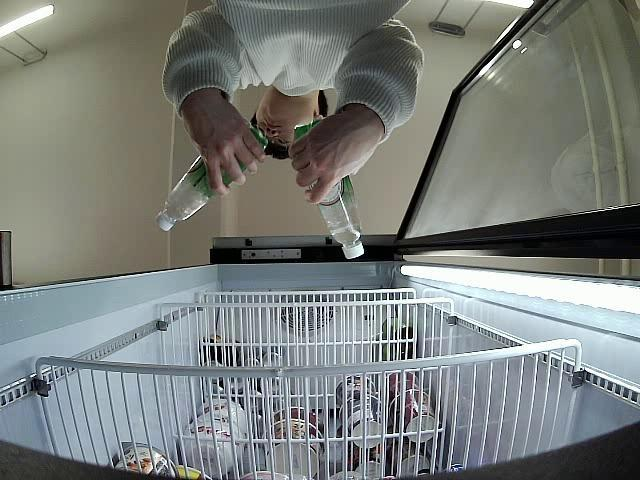18_trevi: (155, 125, 269, 232), (288, 118, 366, 259)
